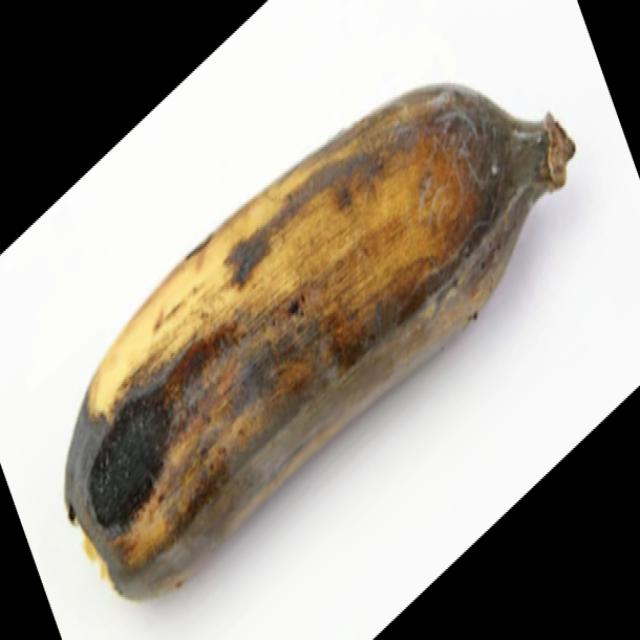Rotten: (51, 0, 587, 630)
